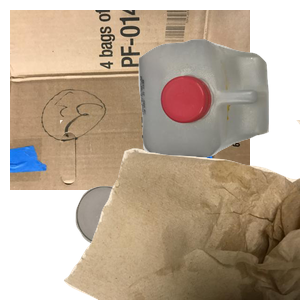cardboard: (10, 10, 250, 190)
glass: (73, 184, 214, 300)
plastic: (136, 37, 300, 188)
trash: (60, 120, 300, 300)
